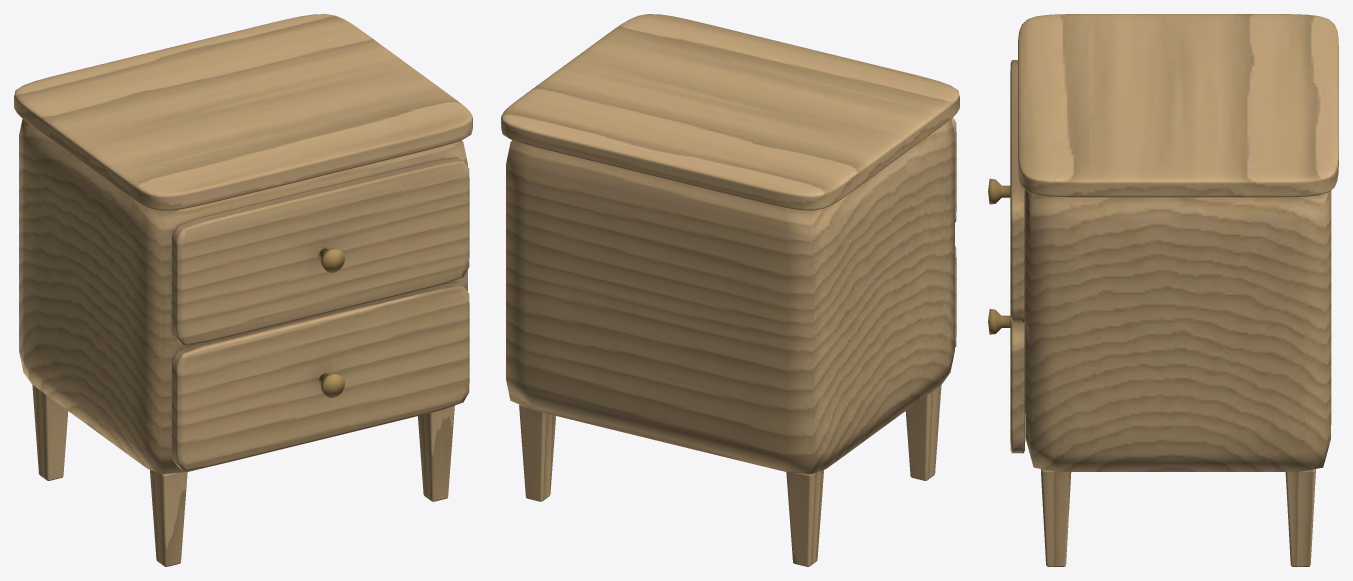
Rendered from white-oak-nightstand.glb.
3 renders of one model, left to right at view 1: azimuth 30°, elevation 25°; view 2: azimuth 150°, elevation 25°; view 3: azimuth 270°, elevation 25°, orthographic. The views are drawn at different scales.
Parts seen in each view (by area): view 1: wood_h, wood_v, brass_handle; view 2: wood_h, wood_v; view 3: wood_h, wood_v, brass_handle.
Boxes of the visible parts, x1=… form: wood_h: x1=14, y1=14, x2=472, y2=474; wood_v: x1=32, y1=385, x2=454, y2=566; brass_handle: x1=319, y1=248, x2=344, y2=397; wood_h: x1=501, y1=14, x2=959, y2=474; wood_v: x1=519, y1=385, x2=941, y2=566; wood_h: x1=1010, y1=14, x2=1338, y2=471; wood_v: x1=1041, y1=469, x2=1315, y2=566; brass_handle: x1=988, y1=178, x2=1010, y2=334.
Bounding box in the file's own units: 0.52 × 0.578 × 0.459.
3 materials, 3 textured.
